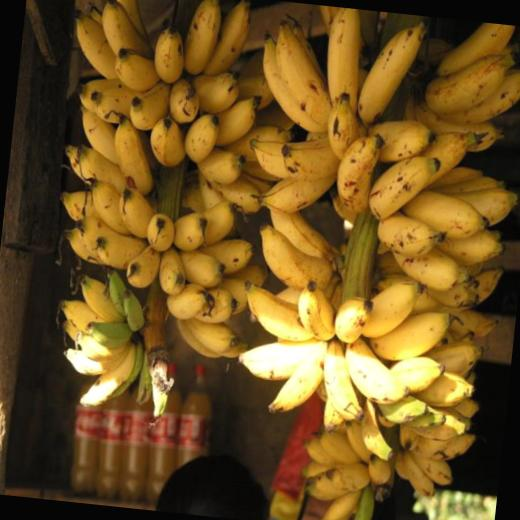Banana: (21, 0, 520, 520)
